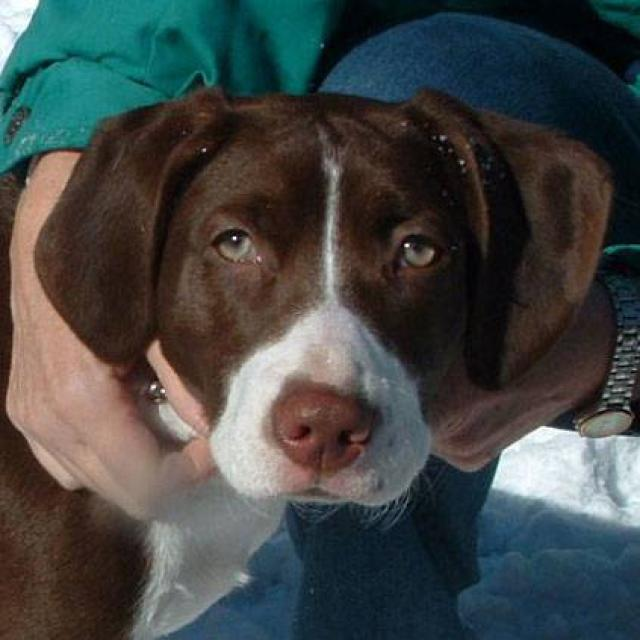dog: (0, 81, 638, 638)
